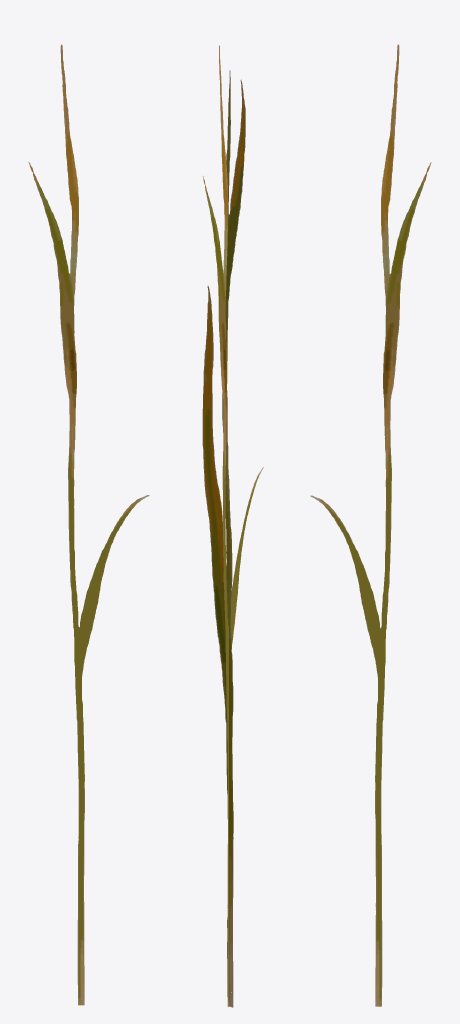
Rendered from Grass_C.fbx.
The picture shows the model from 3 angles, left to right: view 1: azimuth 90°, elevation 25°; view 2: azimuth 150°, elevation 25°; view 3: azimuth 270°, elevation 25°; orthographic projection.
Parts seen in each view (by area): view 1: Grass_C.002; view 2: Grass_C.002; view 3: Grass_C.002.
Part boxes in pixels (x1,y1,x2,y2): Grass_C.002: (28, 44, 149, 1005); Grass_C.002: (202, 45, 263, 1007); Grass_C.002: (310, 44, 431, 1006).
Size of the model in its own units: 12.9 by 186 by 25.04.
